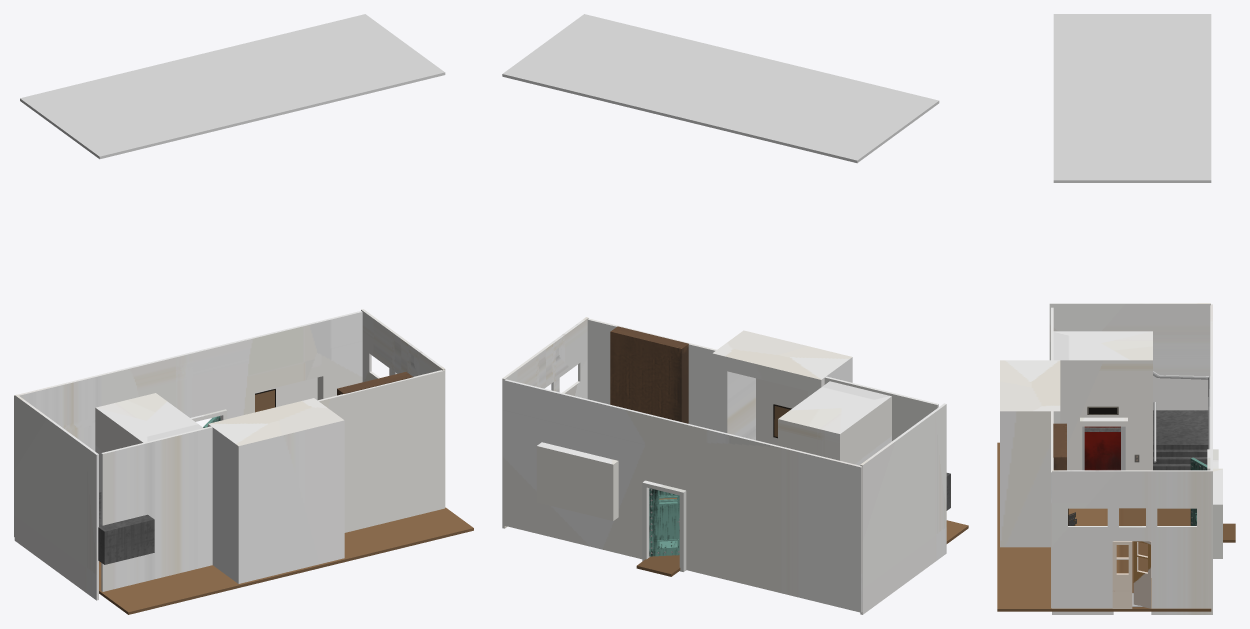
Rendered from Blend_Hall_N_v23.fbx.
3 renders of one model, left to right at view 1: azimuth 30°, elevation 25°; view 2: azimuth 150°, elevation 25°; view 3: azimuth 270°, elevation 25°, orthographic. The views are drawn at different scales.
Visible parts, largest first — view 1: Paredes, Techo, Paredes.001, ParedTrasera, Suelo, ParedAscensor, ParedTrasera.002, Escalera.002; view 2: Paredes.001, Techo, Paredes, ParedTrasera, ParedAscensor, MuebleBuzones, ParedTrasera.002, PuertaContadores, Suelo; view 3: Techo, ParedTrasera.002, ParedAscensor, Paredes, ParedTrasera, Suelo, Escalera.001, Ascensor, Paredes.001, PuertaCalle.002, PuertaCalle.001, Barandilla.002 (+2 smaller).
Part boxes in pixels (x1=…): Paredes: x1=101, y1=370, x2=444, y2=591; Techo: x1=20, y1=14, x2=445, y2=159; Paredes.001: x1=14, y1=311, x2=362, y2=536; ParedTrasera: x1=14, y1=394, x2=98, y2=600; Suelo: x1=99, y1=507, x2=473, y2=614; ParedAscensor: x1=95, y1=393, x2=203, y2=492; ParedTrasera.002: x1=361, y1=309, x2=445, y2=507; Escalera.002: x1=98, y1=492, x2=154, y2=564; Paredes.001: x1=503, y1=379, x2=862, y2=612; Techo: x1=502, y1=14, x2=939, y2=163; Paredes: x1=587, y1=318, x2=938, y2=445; ParedTrasera: x1=860, y1=403, x2=946, y2=614; ParedAscensor: x1=778, y1=381, x2=891, y2=465; MuebleBuzones: x1=610, y1=326, x2=688, y2=423; ParedTrasera.002: x1=502, y1=317, x2=588, y2=528; PuertaContadores: x1=649, y1=488, x2=679, y2=556; Suelo: x1=636, y1=498, x2=968, y2=576; Techo: x1=1053, y1=14, x2=1211, y2=182; ParedTrasera.002: x1=1052, y1=470, x2=1212, y2=614; ParedAscensor: x1=1053, y1=331, x2=1152, y2=470; Paredes: x1=1000, y1=307, x2=1060, y2=608; ParedTrasera: x1=1049, y1=303, x2=1210, y2=410; Suelo: x1=997, y1=442, x2=1235, y2=611; Escalera.001: x1=1153, y1=410, x2=1208, y2=470; Ascensor: x1=1084, y1=426, x2=1120, y2=470; Paredes.001: x1=1207, y1=304, x2=1222, y2=558; PuertaCalle.002: x1=1112, y1=541, x2=1132, y2=608; PuertaCalle.001: x1=1133, y1=541, x2=1151, y2=608; Barandilla.002: x1=1153, y1=371, x2=1210, y2=462.
Size of the model in its own units: 1015 by 1220 by 606.
